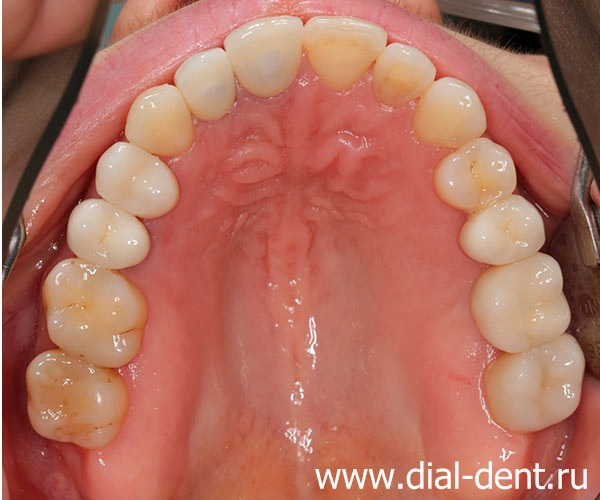UL1BC_healthy: (436, 138, 516, 209)
UL1M_healthy: (474, 254, 569, 353)
UL2BC_healthy: (460, 196, 545, 266)
UL2M_healthy: (486, 336, 585, 430)
ULCI_healthy: (304, 16, 387, 84)
ULC_healthy: (416, 77, 486, 146)
ULLI_healthy: (375, 42, 435, 104)
UR1BC_healthy: (97, 142, 176, 218)
UR1M_healthy: (48, 260, 143, 366)
UR2BC_healthy: (67, 199, 148, 269)
UR2M_decay: (28, 353, 123, 446)
URCI_healthy: (226, 16, 303, 95)
URC_healthy: (126, 85, 192, 155)
URLI_healthy: (175, 49, 235, 120)
